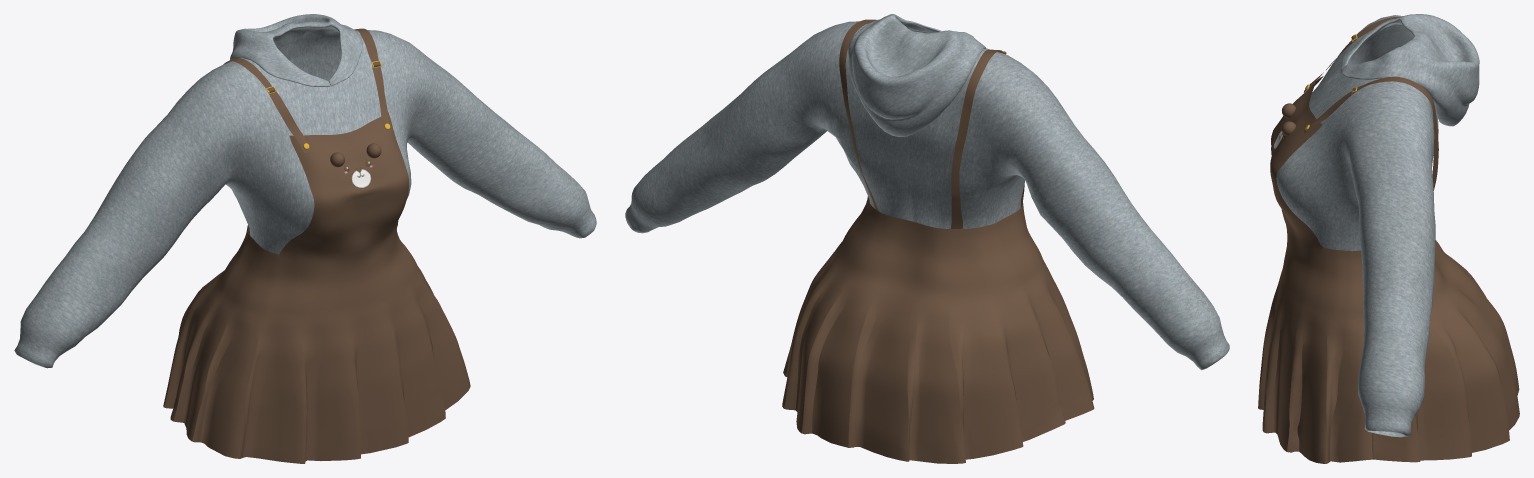
Rendered from outfit15.glb.
3 views of the same model, side by side, from view 1: azimuth 30°, elevation 25°; view 2: azimuth 150°, elevation 25°; view 3: azimuth 270°, elevation 25° (orthographic). The views are drawn at different scales.
Parts seen in each view (by area): view 1: dress, hoodie; view 2: hoodie, dress; view 3: hoodie, dress.
Boxes of the visible parts, x1=… form: dress: x1=163, y1=28, x2=470, y2=463; hoodie: x1=14, y1=14, x2=596, y2=368; hoodie: x1=625, y1=14, x2=1229, y2=370; dress: x1=782, y1=19, x2=1094, y2=463; hoodie: x1=1276, y1=14, x2=1479, y2=437; dress: x1=1258, y1=17, x2=1519, y2=463.
Bounding box in the file's own units: 0.9739 × 0.6139 × 0.3792.
Materials: 3 (2 with a texture image).
